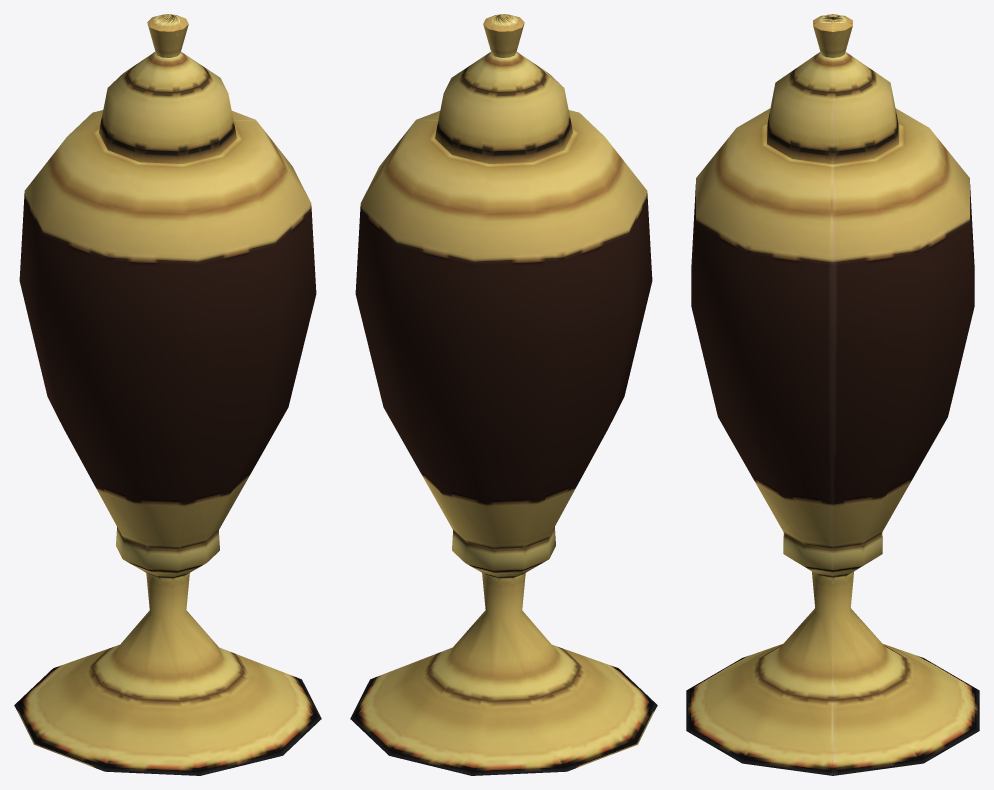
Rendered from IncenseBottles.FBX.
3 views of the same model, side by side, from view 1: azimuth 30°, elevation 25°; view 2: azimuth 150°, elevation 25°; view 3: azimuth 270°, elevation 25° (orthographic).
Visible parts, largest first — view 1: IncenseBottles; view 2: IncenseBottles; view 3: IncenseBottles.
Part boxes in pixels (bbox=[...]): IncenseBottles: bbox=[14, 14, 321, 775]; IncenseBottles: bbox=[350, 14, 657, 775]; IncenseBottles: bbox=[686, 14, 979, 775].
Bounding box in the file's own units: 16.02 × 15.23 × 39.89.
